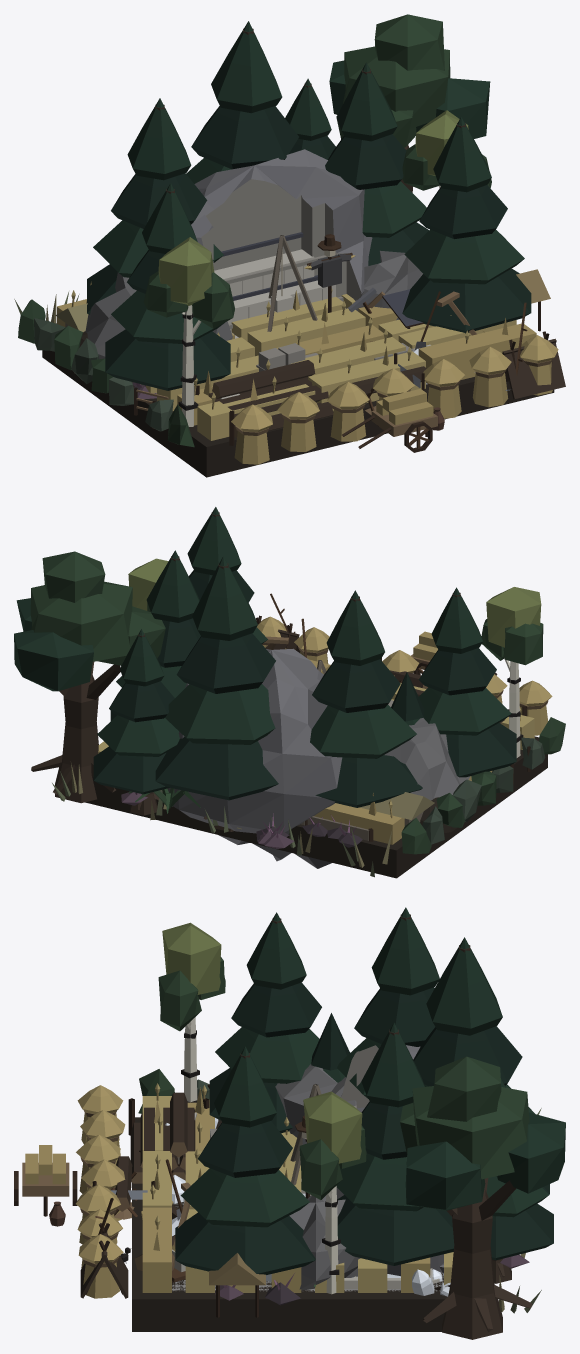
Rendered from sites.glb.
3 views of the same model, one above another, from view 1: azimuth 30°, elevation 25°; view 2: azimuth 150°, elevation 25°; view 3: azimuth 270°, elevation 25° (orthographic). The views are drawn at different scales.
Parts seen in each view (by area): view 1: firs@timber, rows@grain, ridge@stone, stooks@grain, oak@grain, birches@timber, outcrop@stone, field@grain, hedge@grain, log pile@timber, handcart@grain!fine, bark shelter@timber (+8 smaller); view 2: firs@timber, oak@grain, ridge@stone, field@grain, birches@timber, hedge@grain, stooks@grain, outcrop@stone, rows@grain, shore@moonsalt, heather@stone, rakers' hut@moonsalt (+2 smaller); view 3: firs@timber, oak@grain, field@grain, birches@timber, rows@grain, stooks@grain, outcrop@stone, log pile@timber, handcart@grain!fine, ridge@stone, tool shelter@grain, moonsalt@moonsalt (+4 smaller).
Boxes of the visible parts, x1=… form: firs@timber: x1=87, y1=21, x2=531, y2=390; rows@grain: x1=56, y1=281, x2=536, y2=440; ridge@stone: x1=191, y1=149, x2=372, y2=299; stooks@grain: x1=231, y1=335, x2=558, y2=464; oak@grain: x1=329, y1=14, x2=490, y2=192; birches@timber: x1=143, y1=110, x2=491, y2=426; outcrop@stone: x1=85, y1=232, x2=422, y2=359; field@grain: x1=42, y1=323, x2=554, y2=477; hedge@grain: x1=18, y1=299, x2=194, y2=447; log pile@timber: x1=195, y1=360, x2=333, y2=445; handcart@grain!fine: x1=342, y1=388, x2=444, y2=452; bark shelter@timber: x1=502, y1=331, x2=565, y2=399; firs@timber: x1=93, y1=507, x2=516, y2=831; oak@grain: x1=14, y1=551, x2=165, y2=803; ridge@stone: x1=161, y1=648, x2=342, y2=868; field@grain: x1=85, y1=736, x2=547, y2=878; birches@timber: x1=128, y1=558, x2=543, y2=757; hedge@grain: x1=401, y1=717, x2=565, y2=854; stooks@grain: x1=257, y1=616, x2=552, y2=735; outcrop@stone: x1=384, y1=718, x2=469, y2=800; rows@grain: x1=98, y1=659, x2=534, y2=844; shore@moonsalt: x1=52, y1=761, x2=391, y2=877; heather@stone: x1=121, y1=791, x2=327, y2=848; rakers' hut@moonsalt: x1=359, y1=792, x2=434, y2=826; firs@timber: x1=175, y1=907, x2=553, y2=1283; oak@grain: x1=400, y1=1056, x2=565, y2=1339; field@grain: x1=132, y1=1117, x2=447, y2=1331; birches@timber: x1=158, y1=922, x2=366, y2=1294; rows@grain: x1=142, y1=1087, x2=453, y2=1292; stooks@grain: x1=75, y1=1085, x2=125, y2=1298; outcrop@stone: x1=275, y1=1064, x2=360, y2=1290; log pile@timber: x1=128, y1=1092, x2=209, y2=1183; handcart@grain!fine: x1=14, y1=1145, x2=77, y2=1226; ridge@stone: x1=307, y1=1045, x2=443, y2=1276; tool shelter@grain: x1=209, y1=1253, x2=265, y2=1317; moonsalt@moonsalt: x1=165, y1=1118, x2=450, y2=1296.
Size of the model in its own units: 14.67 by 10.15 by 14.1.
